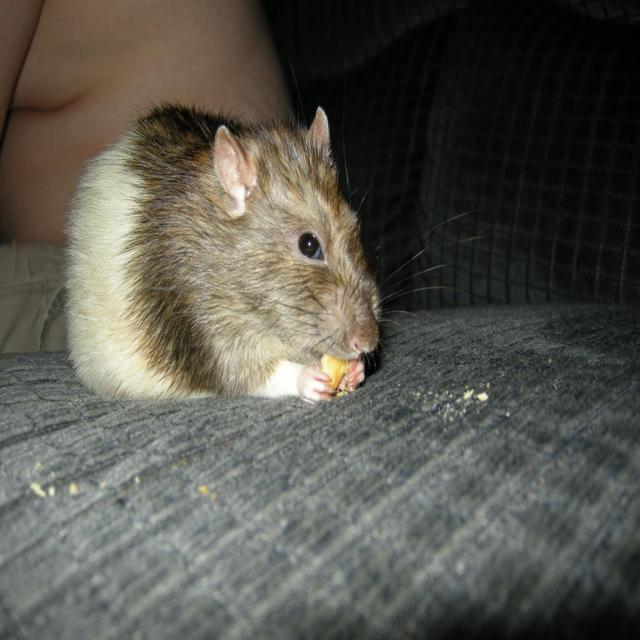rat: (60, 106, 383, 402)
